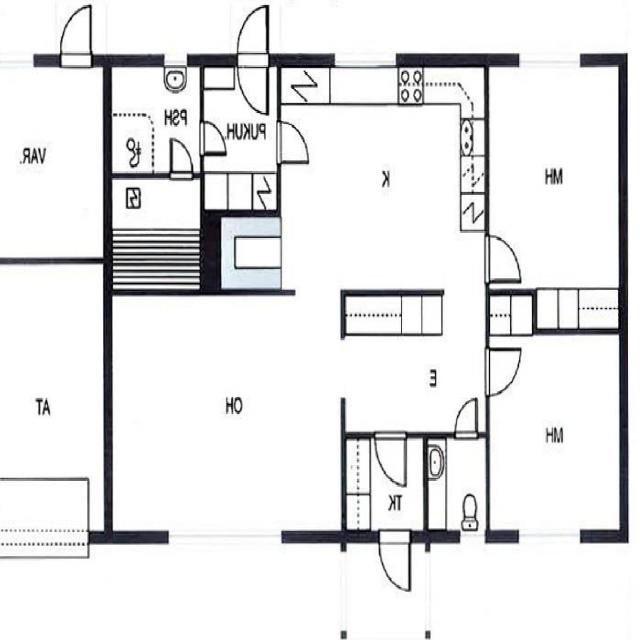door: (238, 7, 269, 65), (238, 54, 269, 112), (61, 8, 92, 65), (380, 530, 410, 588), (376, 432, 406, 484), (486, 235, 519, 281), (486, 350, 518, 394), (278, 121, 308, 162), (456, 398, 478, 436), (201, 121, 226, 154), (172, 142, 193, 178)
